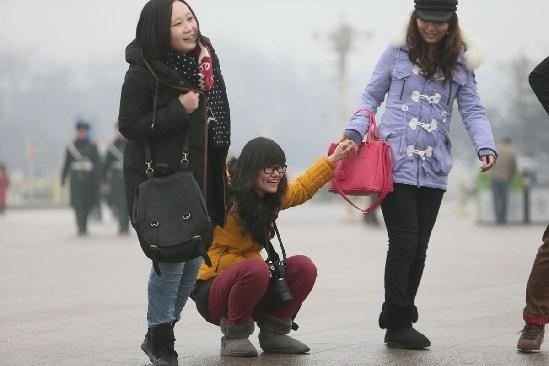person: (334, 1, 497, 348), (116, 1, 230, 366), (173, 135, 354, 358), (100, 122, 153, 236), (60, 121, 105, 236), (488, 136, 522, 226), (514, 149, 540, 225), (1, 159, 11, 217)
